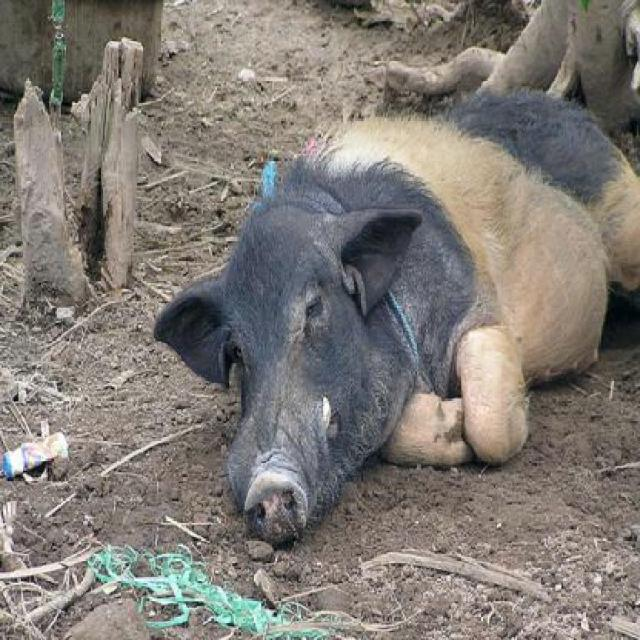Boar: (154, 86, 640, 548)
